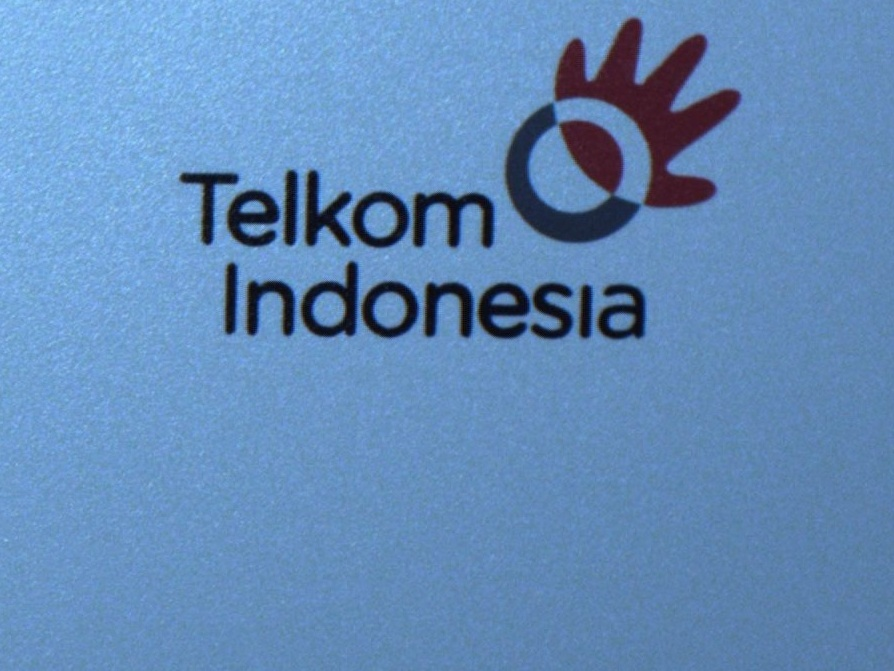BQ_IndonTelkom: (167, 14, 747, 340)
